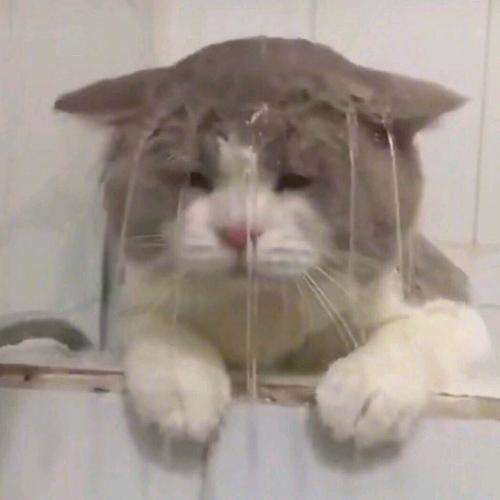cat: (75, 61, 472, 331)
